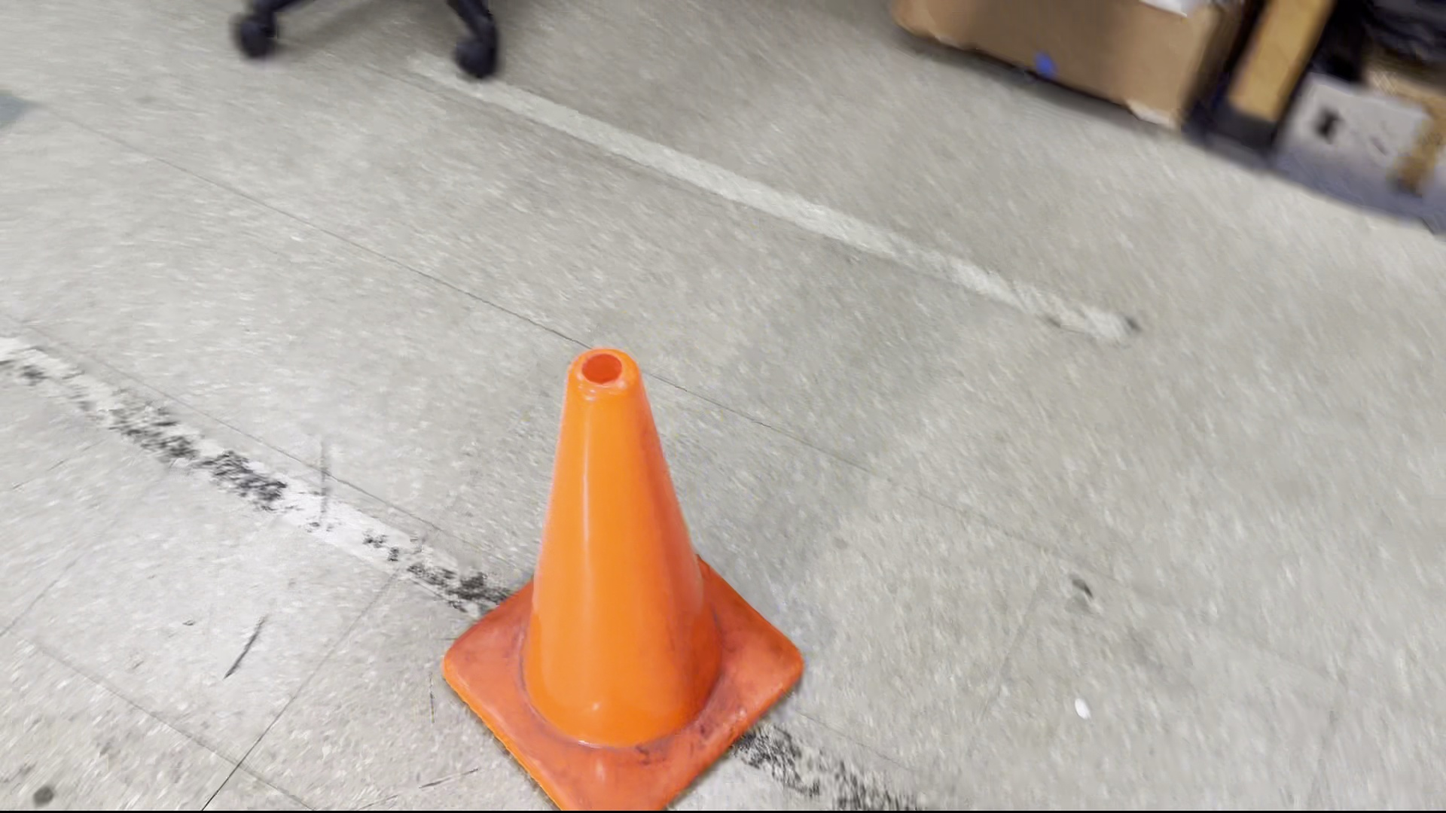traffic_cone: (440, 345, 805, 811)
